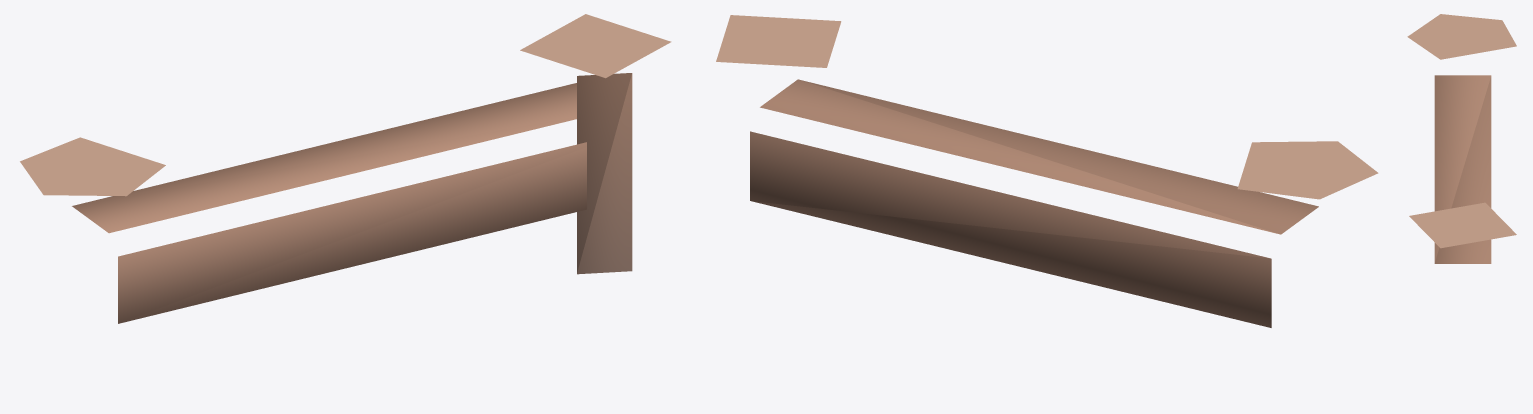
The model's file is fence.glb.
3 views of the same model, side by side, from view 1: azimuth 30°, elevation 25°; view 2: azimuth 150°, elevation 25°; view 3: azimuth 270°, elevation 25° (orthographic). The views are drawn at different scales.
Visible parts, largest first — view 1: fence; view 2: fence; view 3: fence.
Boxes of the visible parts, box(x1,y1,x2,y2) form: fence: box(20, 14, 671, 323); fence: box(716, 15, 1378, 327); fence: box(1407, 14, 1516, 263).
Bounding box in the file's own units: 0.9943 × 0.3 × 0.2.
